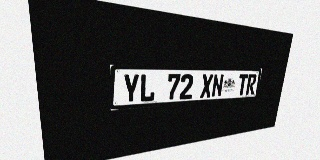2: (179, 74, 194, 99)
7: (166, 74, 181, 100)
L: (139, 74, 156, 102)
N: (211, 74, 224, 97)
R: (245, 74, 257, 95)
T: (237, 74, 248, 95)
X: (200, 74, 213, 98)
Y: (122, 74, 139, 103)
